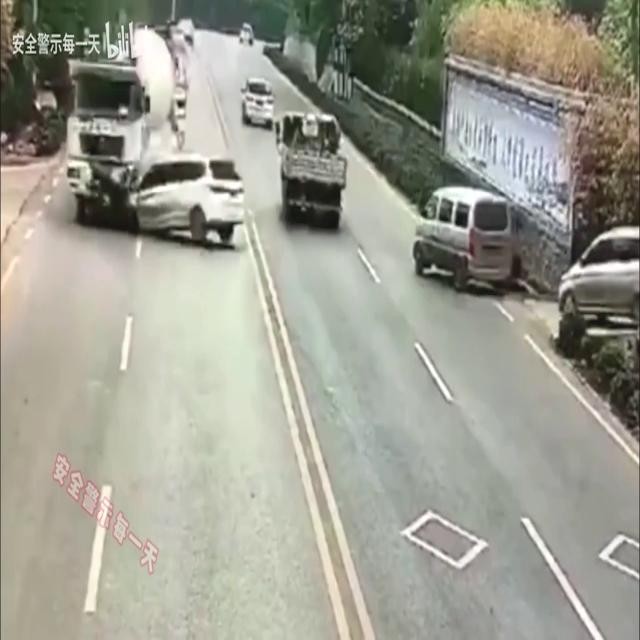accident: (68, 27, 248, 249)
